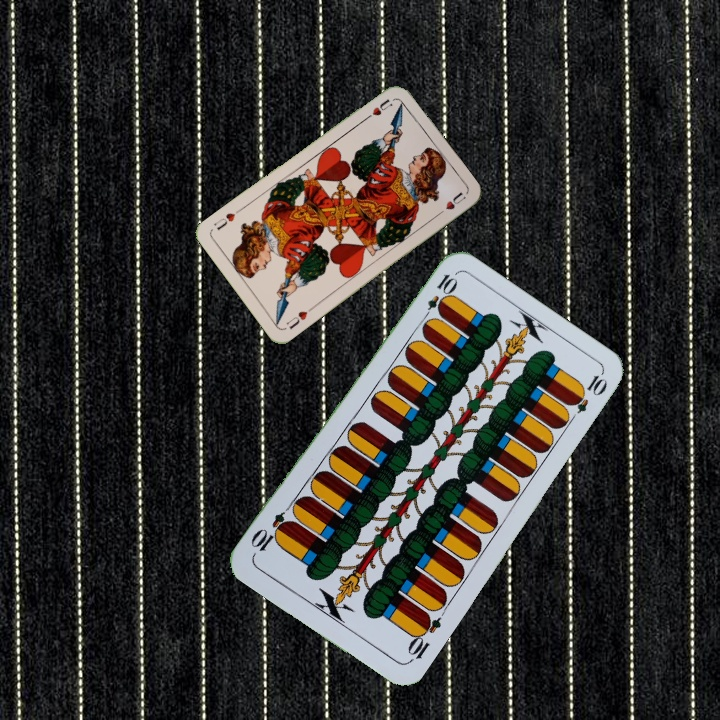E10: (403, 609, 444, 666), (418, 269, 459, 325)
HU: (282, 303, 316, 332), (368, 95, 395, 118)
